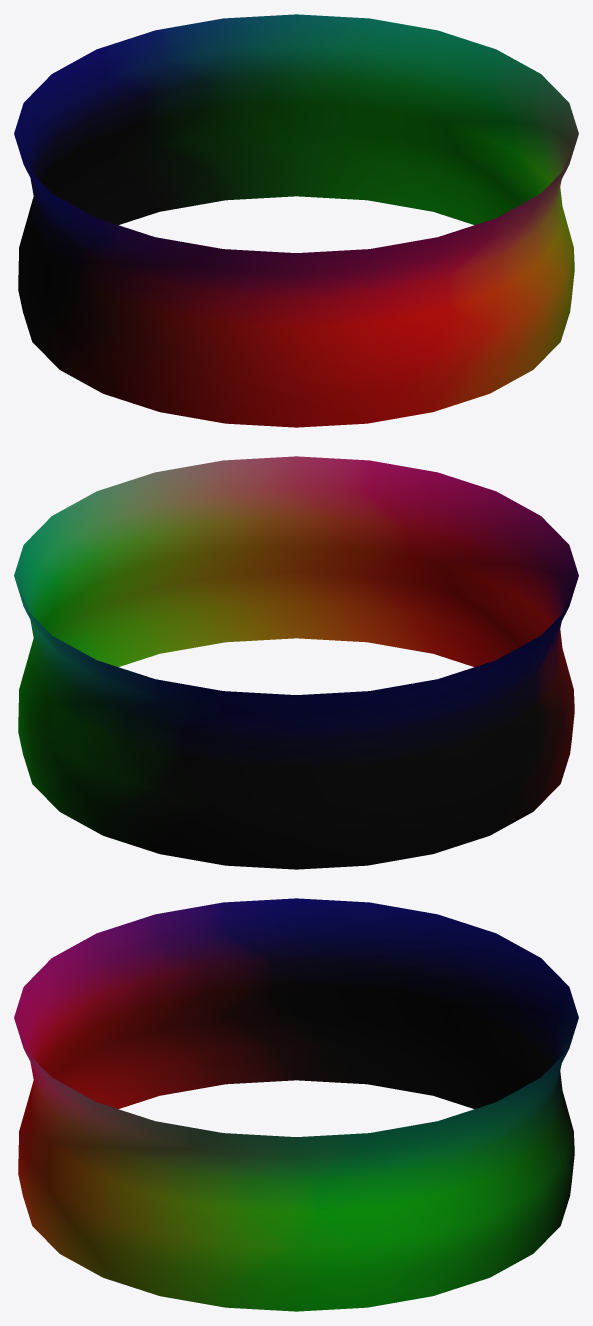
The model's file is uni_fountain.fbx.
The picture shows the model from 3 angles, top to bottom: view 1: azimuth 30°, elevation 25°; view 2: azimuth 150°, elevation 25°; view 3: azimuth 270°, elevation 25°; orthographic projection.
Visible parts, largest first — view 1: uni_fountain; view 2: uni_fountain; view 3: uni_fountain.
Part boxes in pixels (bbox=[...]): uni_fountain: bbox=[14, 14, 578, 427]; uni_fountain: bbox=[14, 456, 578, 869]; uni_fountain: bbox=[14, 898, 578, 1311].
Size of the model in its own units: 26432 by 26432 by 9200.
